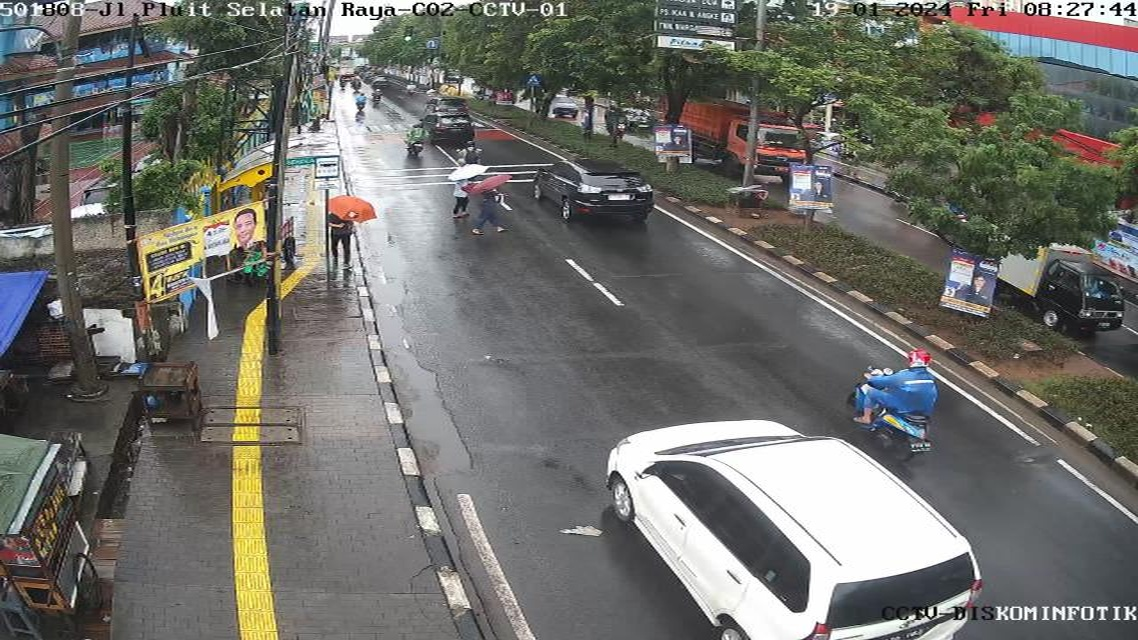Gerobak: (0, 437, 112, 619)
